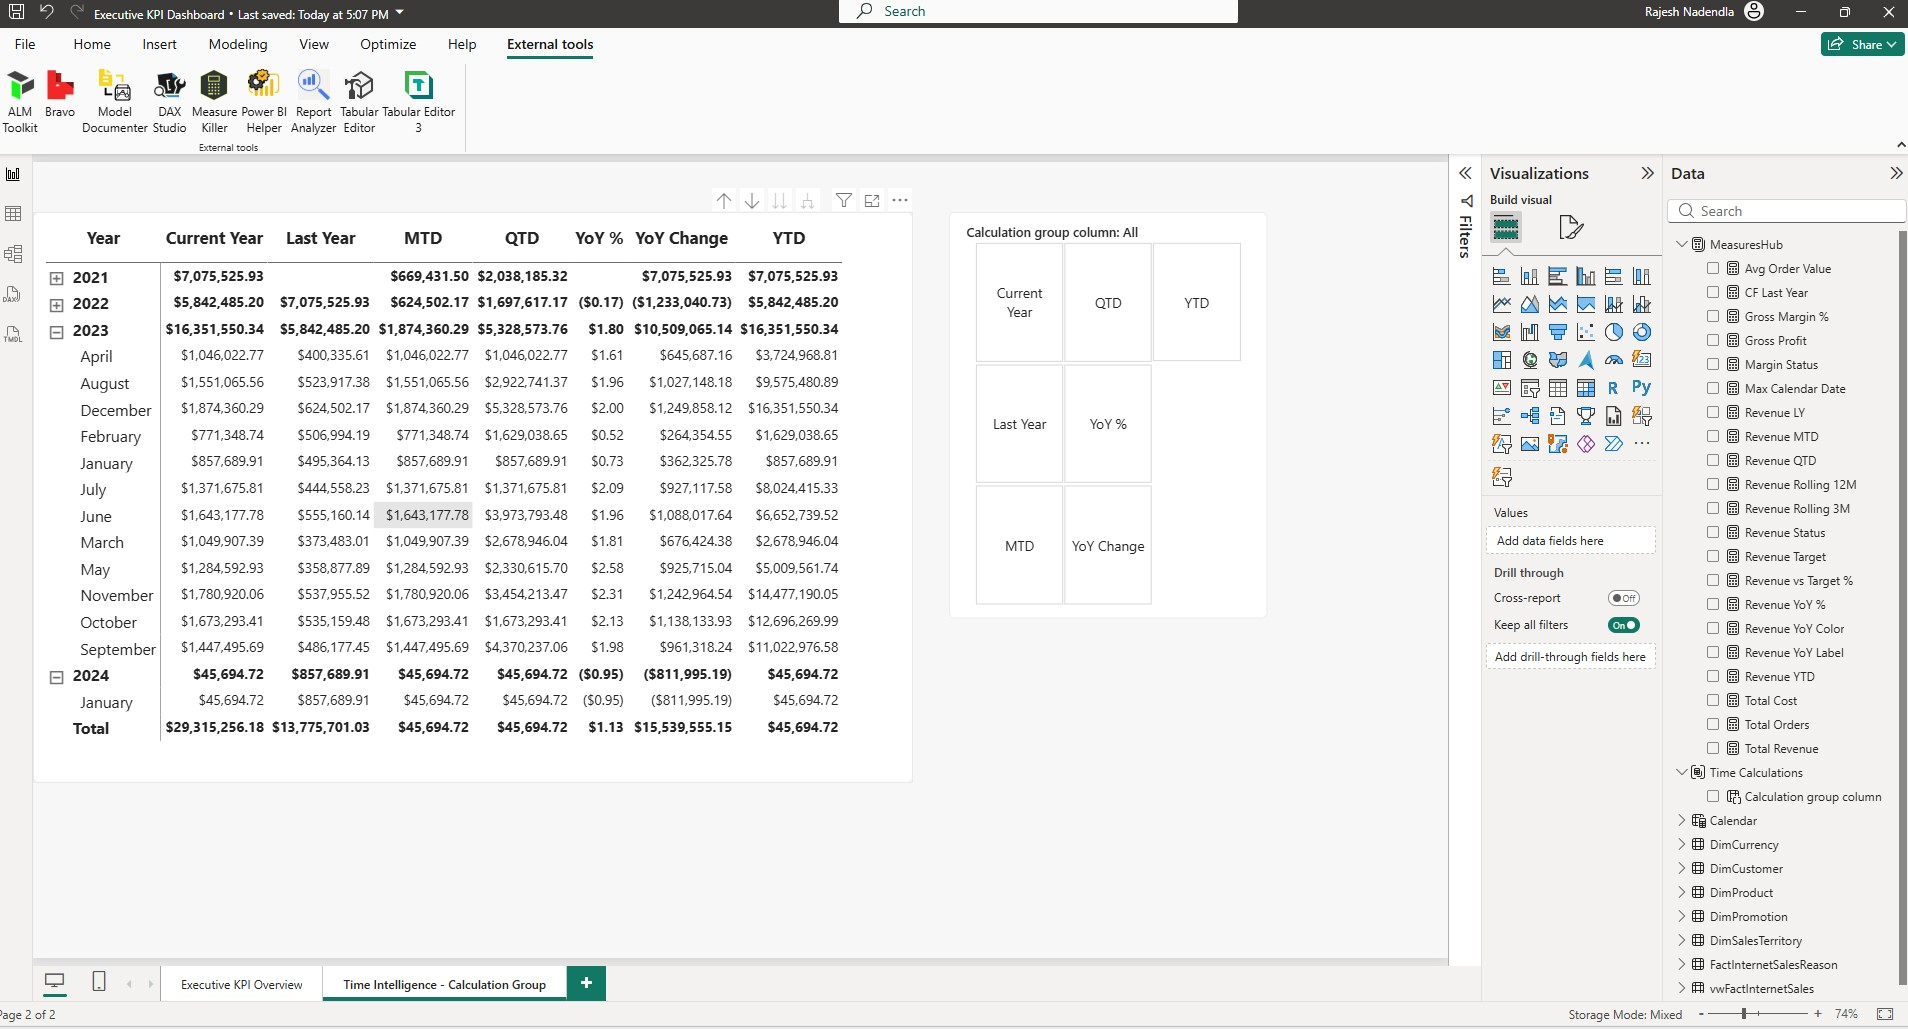

Layout of this report page (visuals, bound fields, positions):
{"tool":"powerbi","page":{"name":"Time Intelligence - Calculation Group","canvas":[1920,1080],"ordinal":1},"visuals":[{"type":"pivotTable","fields":{"Columns":["Time Calculations.Calculation group column"],"Rows":["Calendar.Year","Calendar.Month Name"],"Values":["MeasuresHub.Total Revenue"]},"box":[0,67.8,1193.1,774.1],"z":0},{"type":"slicer","fields":{"Values":["Time Calculations.Calculation group column"]},"box":[1242,67.8,432.5,550.5],"z":1}]}

Visuals, with their boxes on the page's 1920x1080 design canvas (x1, y1, x2, y2). These are canvas units, not pixel positions in the 1908x1029 screenshot, which may show the page scaled, cropped or inside an application window:
pivotTable - Time Calculations.Calculation group column x Calendar.Year: [x1=0, y1=68, x2=1193, y2=842]
slicer - Time Calculations.Calculation group column: [x1=1242, y1=68, x2=1674, y2=618]
